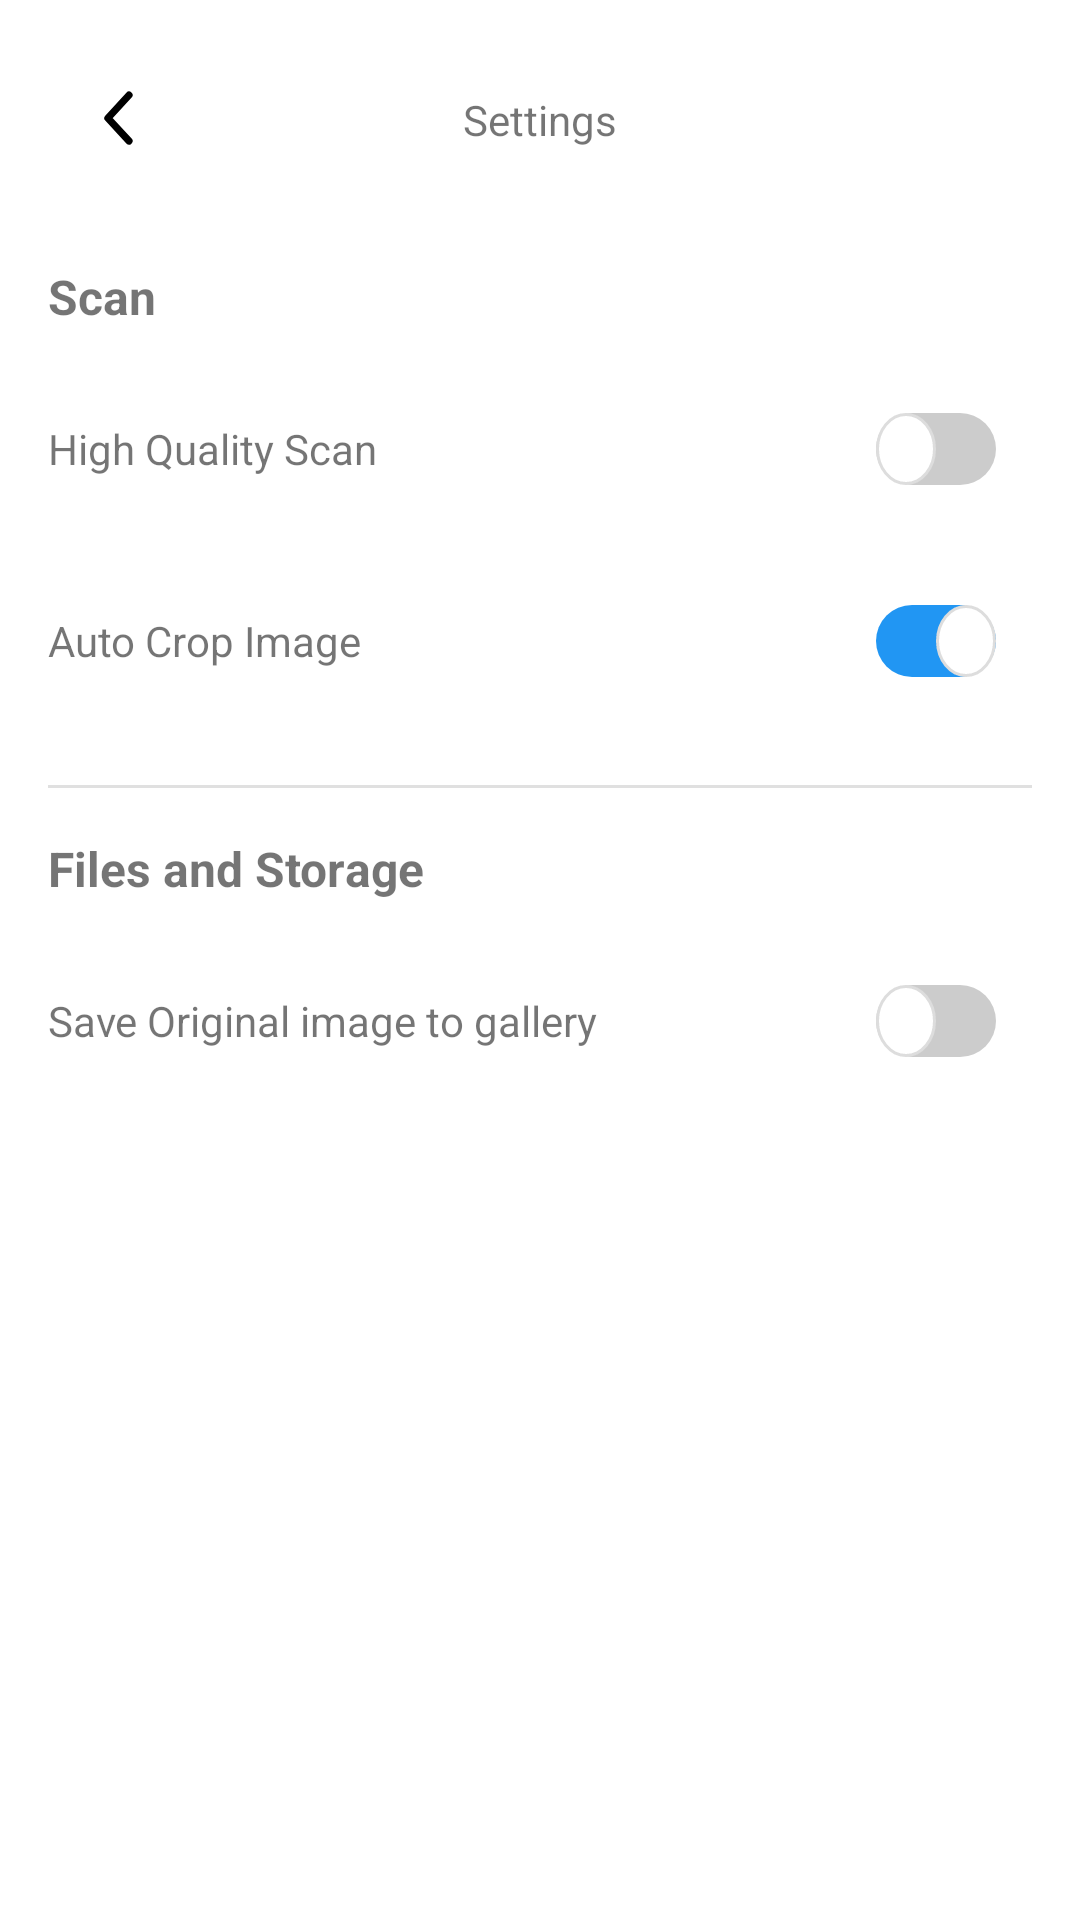

Icons on this 1080x1920 Android screen, each with the point to tap as point (x, y):
Navigate back: point (118, 118)
